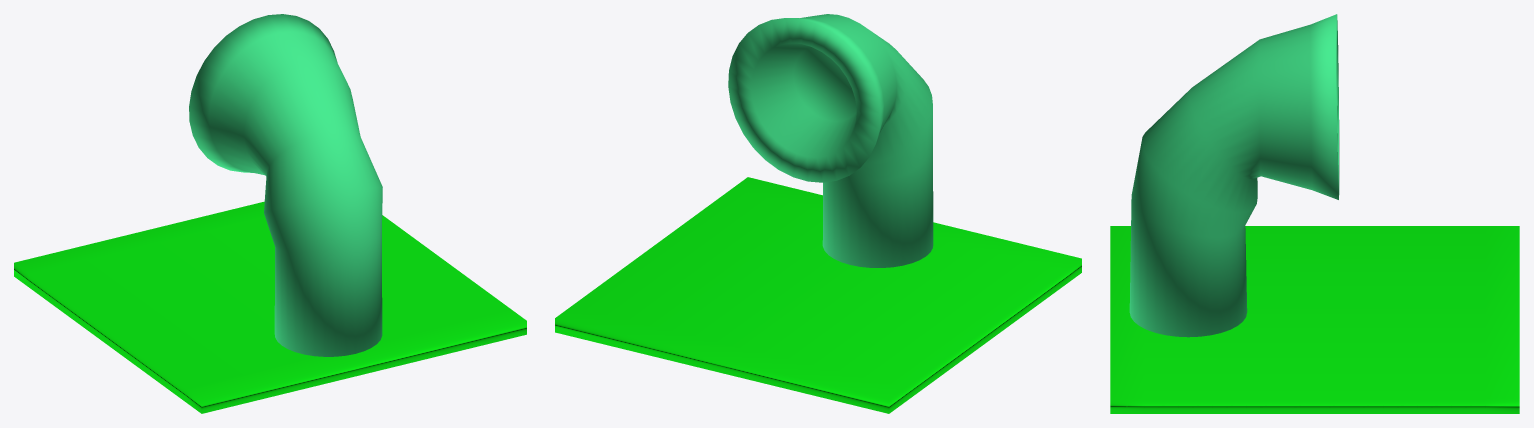
File: tubo.fbx
3 views of the same model, side by side, from view 1: azimuth 30°, elevation 25°; view 2: azimuth 150°, elevation 25°; view 3: azimuth 270°, elevation 25° (orthographic). The views are drawn at different scales.
Visible parts, largest first — view 1: Cube, Cylinder; view 2: Cube, Cylinder; view 3: Cube, Cylinder.
Part boxes in pixels (bbox=[...]): Cube: bbox=[14, 201, 526, 413]; Cylinder: bbox=[189, 14, 382, 356]; Cube: bbox=[555, 177, 1081, 413]; Cylinder: bbox=[728, 14, 933, 267]; Cube: bbox=[1110, 226, 1519, 413]; Cylinder: bbox=[1129, 14, 1339, 337].
Size of the model in its own units: 2 by 2 by 1.65.
